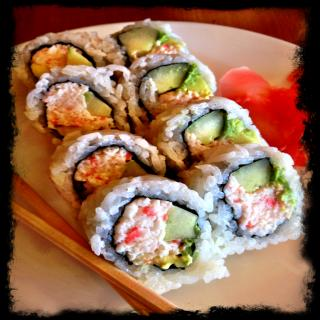Sushi: (14, 20, 306, 298), (94, 182, 215, 277)
